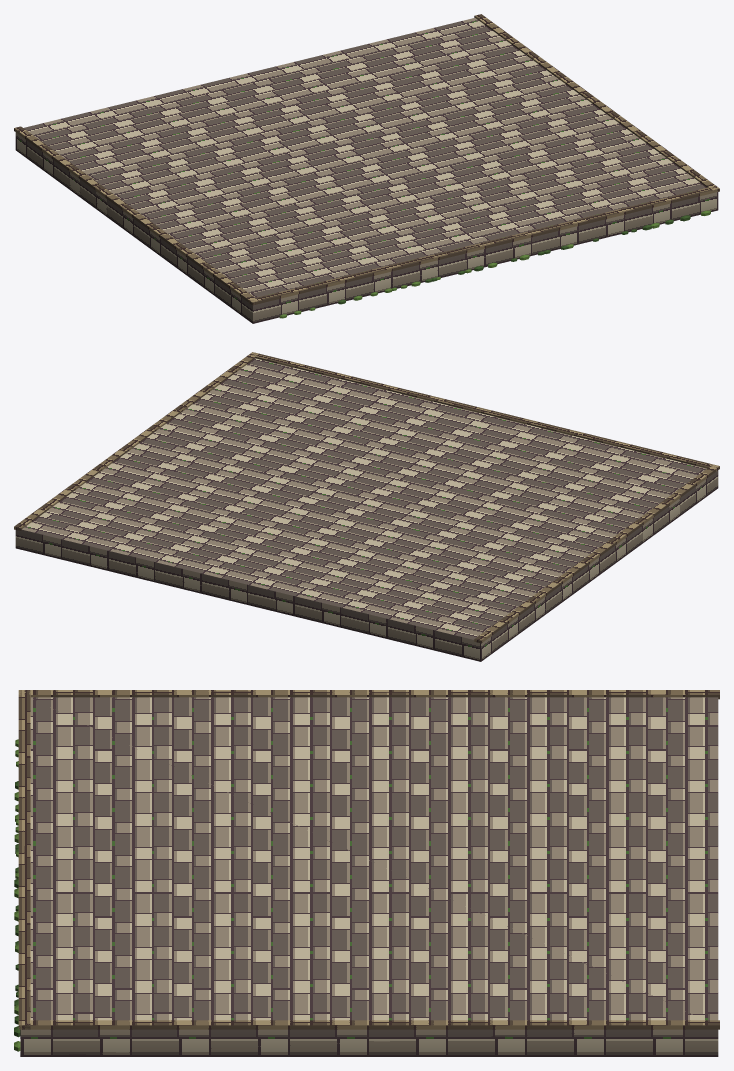
File: scene_wall_s.glb
3 views of the same model, one above another, from view 1: azimuth 30°, elevation 25°; view 2: azimuth 150°, elevation 25°; view 3: azimuth 270°, elevation 25° (orthographic). The views are drawn at different scales.
Visible parts, largest first — view 1: scene_wall_s; view 2: scene_wall_s; view 3: scene_wall_s.
Part boxes in pixels (left/top/right/bottom): scene_wall_s: left=14, top=14, right=719, bottom=323; scene_wall_s: left=14, top=352, right=719, bottom=661; scene_wall_s: left=14, top=690, right=719, bottom=1056.
Bounding box in the file's own units: 24.1 × 1.17 × 21.44.
Materials: 2 (1 with a texture image).
